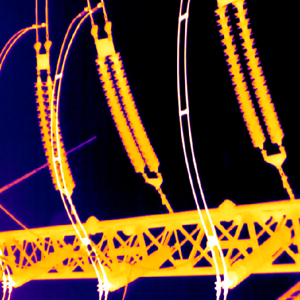insulator: (234, 0, 284, 143), (216, 6, 264, 148), (110, 53, 158, 171), (97, 56, 144, 172), (225, 226, 291, 285), (105, 245, 172, 291), (46, 72, 72, 189), (35, 76, 60, 188), (9, 245, 74, 287)
